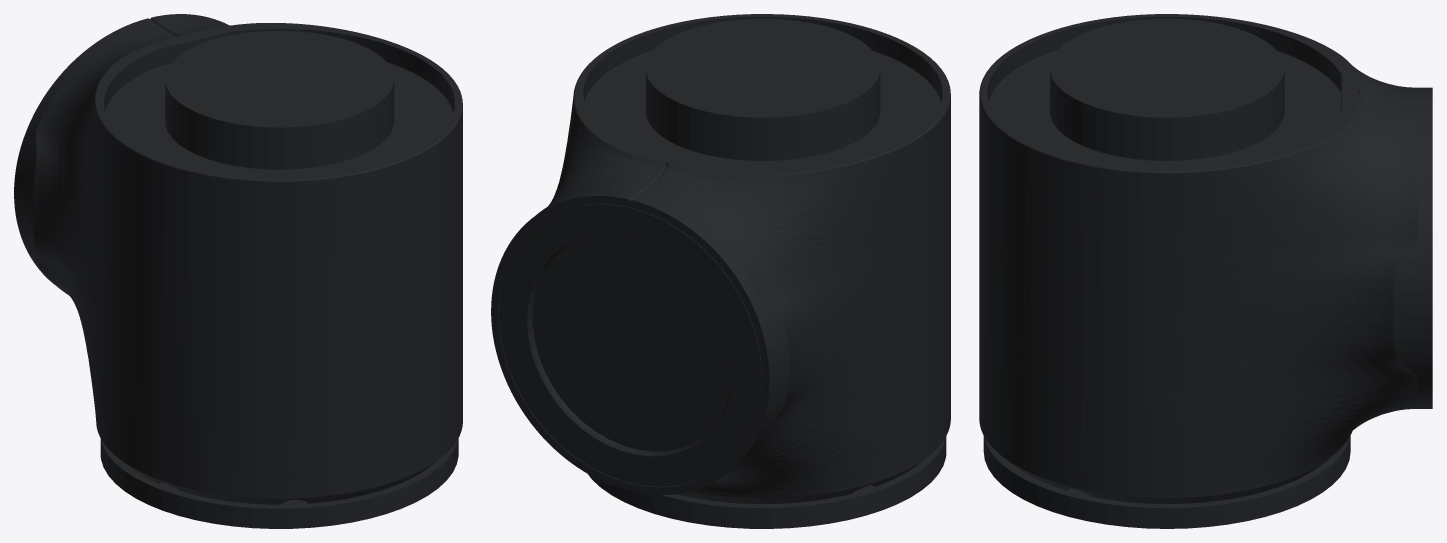
The model's file is AR5_5_08L_W4C4A6_link1_vis.obj.
3 renders of one model, left to right at view 1: azimuth 30°, elevation 25°; view 2: azimuth 150°, elevation 25°; view 3: azimuth 270°, elevation 25°, orthographic. The views are drawn at different scales.
Visible parts, largest first — view 1: AR5_5_08L_W4C4A6_link1; view 2: AR5_5_08L_W4C4A6_link1; view 3: AR5_5_08L_W4C4A6_link1.
Boxes of the visible parts, bbox=[...] form: AR5_5_08L_W4C4A6_link1: bbox=[14, 14, 462, 528]; AR5_5_08L_W4C4A6_link1: bbox=[491, 14, 950, 528]; AR5_5_08L_W4C4A6_link1: bbox=[979, 14, 1432, 528].
Bounding box in the file's own units: 0.104 × 0.1173 × 0.1255.
Materials: 1 (1 with a texture image).
